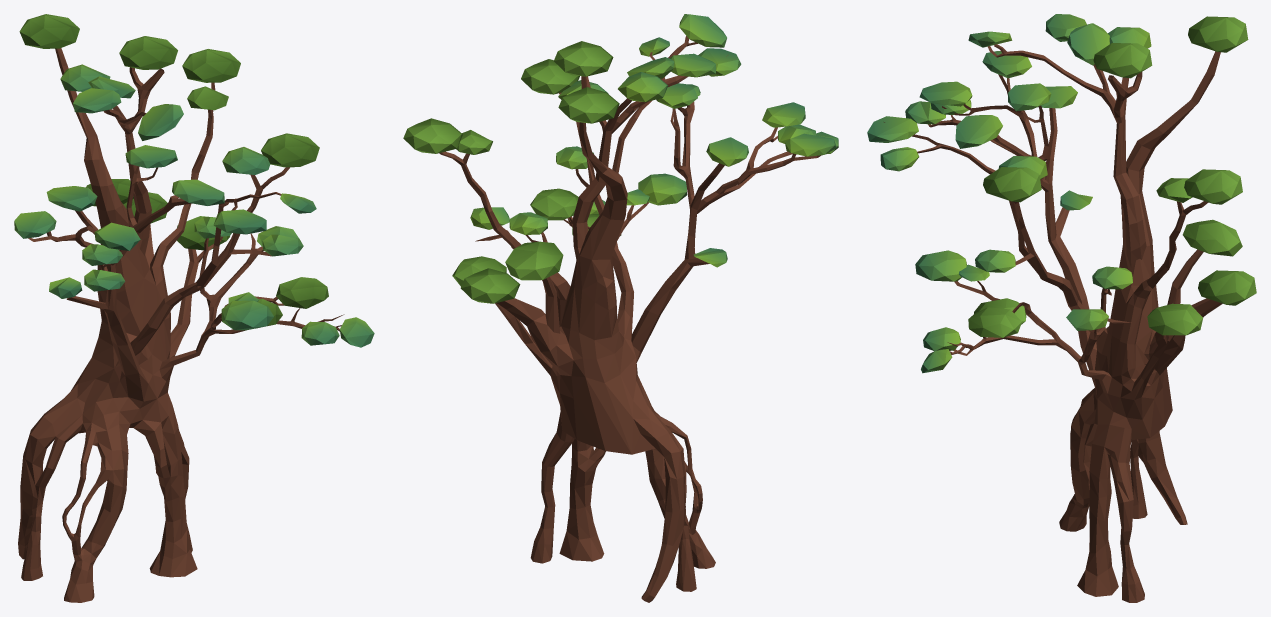
The model's file is ZLPC_Plant_Tree_A_1.FBX.
3 views of the same model, side by side, from view 1: azimuth 30°, elevation 25°; view 2: azimuth 150°, elevation 25°; view 3: azimuth 270°, elevation 25° (orthographic). The views are drawn at different scales.
Visible parts, largest first — view 1: ZLPC_Plant_Tree_A_1; view 2: ZLPC_Plant_Tree_A_1; view 3: ZLPC_Plant_Tree_A_1.
Part boxes in pixels (<box>): ZLPC_Plant_Tree_A_1: <box>14,14,374,602</box>; ZLPC_Plant_Tree_A_1: <box>403,14,838,602</box>; ZLPC_Plant_Tree_A_1: <box>867,14,1256,602</box>.
Size of the model in its own units: 1048 by 1629 by 1073.
Materials: 1 (1 with a texture image).
